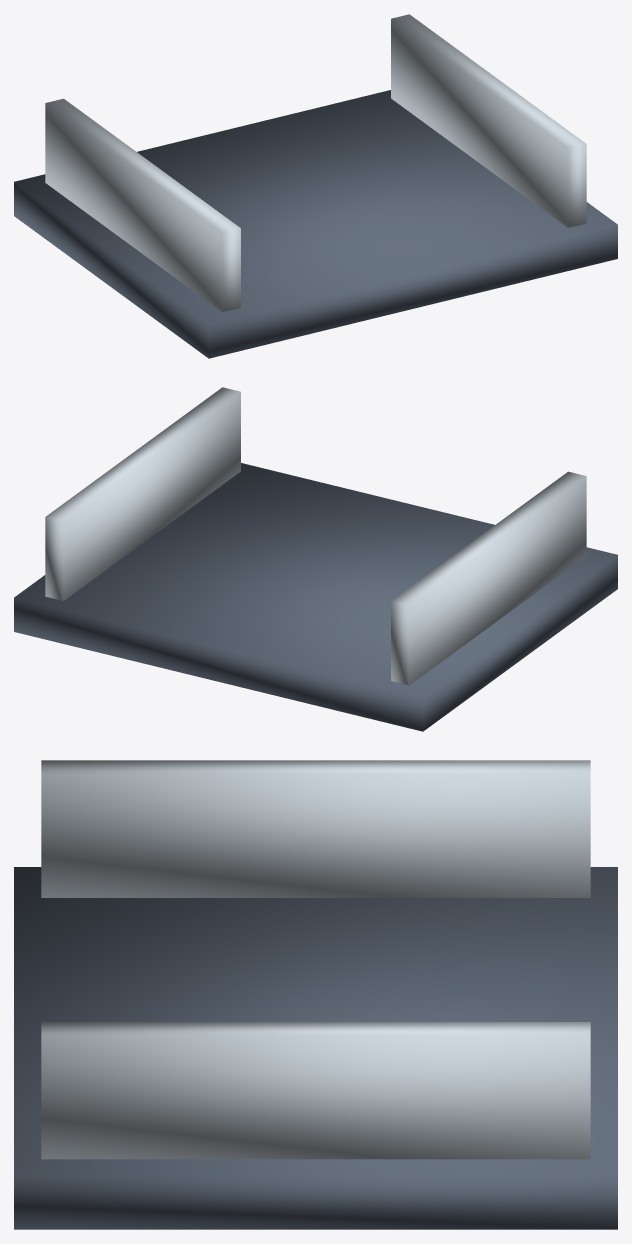
Rendered from 63_L86_FailedRadiatorDisposalCradle.glb.
3 views of the same model, one above another, from view 1: azimuth 30°, elevation 25°; view 2: azimuth 150°, elevation 25°; view 3: azimuth 270°, elevation 25° (orthographic). The views are drawn at different scales.
Visible parts, largest first — view 1: L86_FailedRadiatorDisposalCra_Part_0000, L86_FailedRadiatorDisposalCra_Part_0001; view 2: L86_FailedRadiatorDisposalCra_Part_0000, L86_FailedRadiatorDisposalCra_Part_0001; view 3: L86_FailedRadiatorDisposalCra_Part_0001, L86_FailedRadiatorDisposalCra_Part_0000.
Boxes of the visible parts, x1,y1,x2,y2 form: L86_FailedRadiatorDisposalCra_Part_0000: [14, 90, 617, 358]; L86_FailedRadiatorDisposalCra_Part_0001: [45, 14, 586, 312]; L86_FailedRadiatorDisposalCra_Part_0000: [14, 463, 617, 731]; L86_FailedRadiatorDisposalCra_Part_0001: [45, 387, 586, 685]; L86_FailedRadiatorDisposalCra_Part_0001: [41, 760, 590, 1159]; L86_FailedRadiatorDisposalCra_Part_0000: [14, 867, 617, 1229].
Size of the model in its own units: 4 by 1.06 by 3.3.
